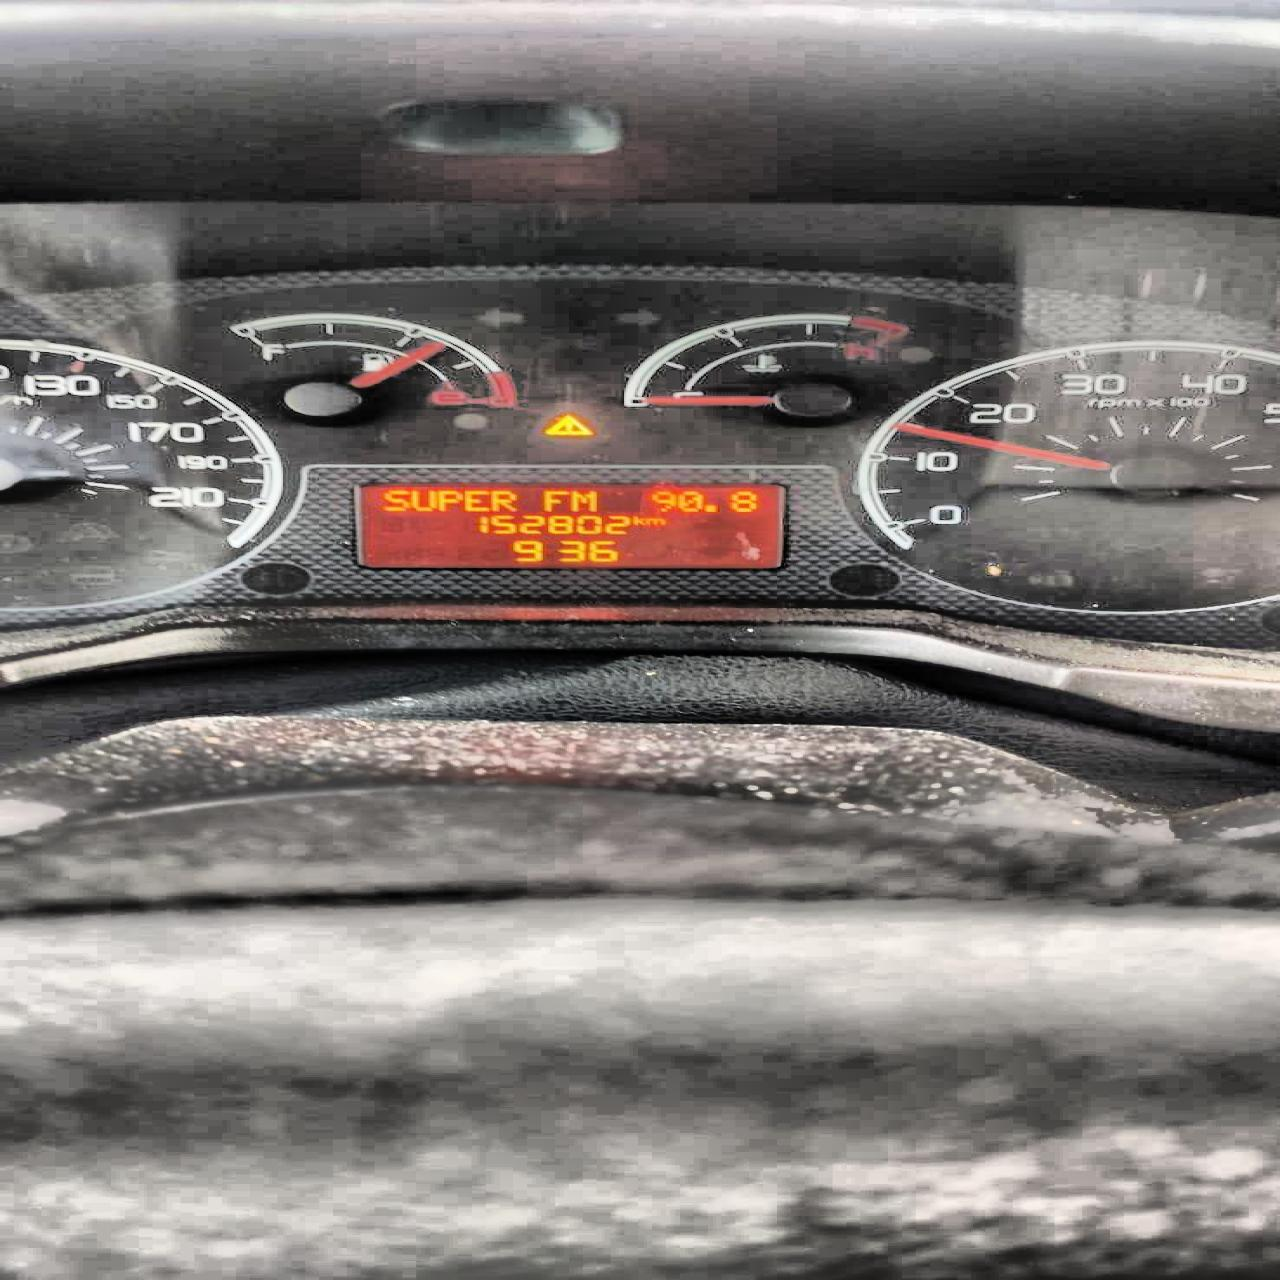-: (701, 503, 719, 512)
0: (676, 489, 702, 512), (574, 513, 602, 535)
1: (471, 515, 489, 533)
2: (602, 513, 628, 535), (517, 513, 543, 535)
3: (556, 538, 585, 563)
5: (489, 515, 517, 535)
6: (588, 538, 619, 563)
8: (727, 490, 758, 512), (546, 515, 572, 535)
9: (509, 538, 543, 563), (647, 489, 675, 512)
X: (461, 488, 489, 513), (567, 490, 599, 512), (539, 488, 568, 511), (409, 486, 436, 511), (380, 488, 408, 511), (436, 488, 462, 512), (491, 489, 517, 512), (644, 516, 666, 526), (629, 513, 644, 525)
odometer: (340, 476, 799, 574)
